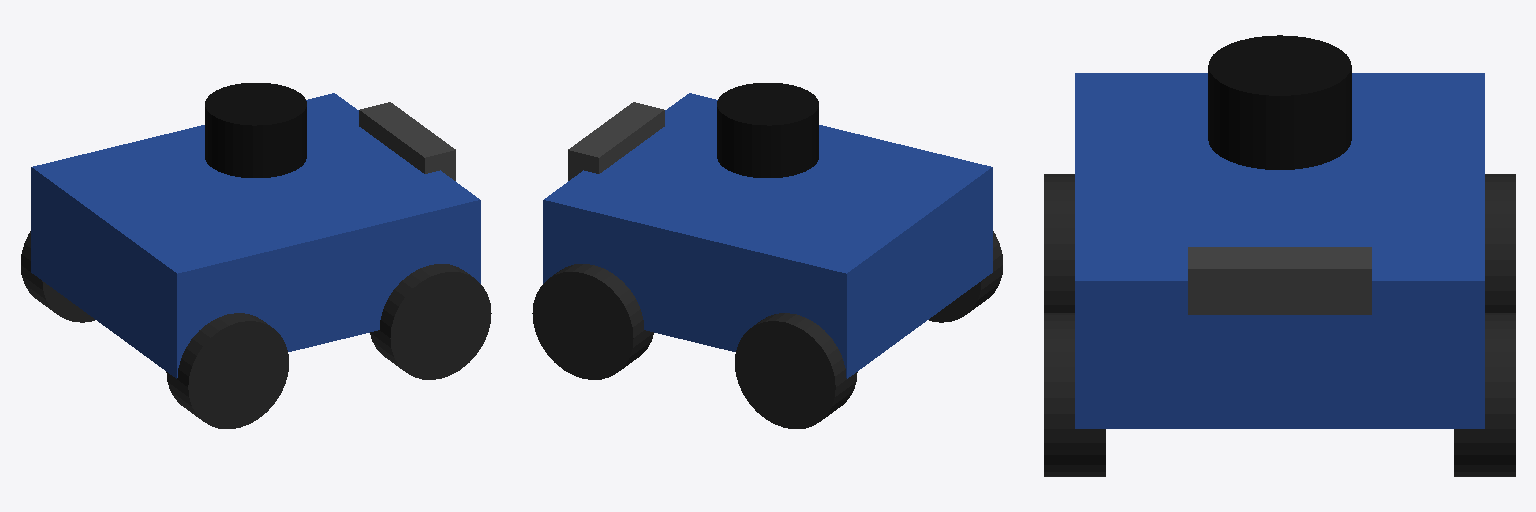
URDF robot description (mecanum_robot):
<robot name="mecanum_robot">
  <link name="base_footprint" />
  <link name="base_link">
    <inertial>
      <origin xyz="0 0 0.04" rpy="0 0 0" />
      <mass value="3.5" />
      <inertia ixx="0.01598" ixy="0" ixz="0" iyy="0.02473" iyz="0" izz="0.03700" />
    </inertial>
    <visual>
      <origin xyz="0 0 0.04" rpy="0 0 0" />
      <geometry>
        <box size="0.24 0.20 0.08" />
      </geometry>
      <material name="blue">
        <color rgba="0.2 0.35 0.65 1.0" />
      </material>
    </visual>
    <collision>
      <origin xyz="0 0 0.04" rpy="0 0 0" />
      <geometry>
        <box size="0.24 0.20 0.08" />
      </geometry>
    </collision>
  </link>
  <joint name="base_footprint_joint" type="fixed">
    <parent link="base_footprint" />
    <child link="base_link" />
    <origin xyz="0 0 0.04" rpy="0 0 0" />
  </joint>
  <link name="imu_link" />
  <joint name="imu_joint" type="fixed">
    <parent link="base_link" />
    <child link="imu_link" />
    <origin xyz="0 0 0.06" rpy="0 0 0" />
  </joint>
  <link name="base_scan">
    <visual>
      <geometry>
        <cylinder radius="0.035" length="0.04" />
      </geometry>
      <material name="dark">
        <color rgba="0.1 0.1 0.1 1.0" />
      </material>
    </visual>
    <collision>
      <geometry>
        <cylinder radius="0.035" length="0.04" />
      </geometry>
    </collision>
  </link>
  <joint name="lidar_joint" type="fixed">
    <parent link="base_link" />
    <child link="base_scan" />
    <origin xyz="0 0 0.12" rpy="0 0 0" />
  </joint>
  <link name="camera_link">
    <visual>
      <geometry>
        <box size="0.025 0.09 0.025" />
      </geometry>
      <material name="grey">
        <color rgba="0.3 0.3 0.3 1.0" />
      </material>
    </visual>
  </link>
  <joint name="camera_joint" type="fixed">
    <parent link="base_link" />
    <child link="camera_link" />
    <origin xyz=".12 0 0.08" rpy="0 0 0" />
  </joint>
  <link name="front_left_wheel">
    <visual>
      <geometry>
        <cylinder radius="0.04" length="0.03" />
      </geometry>
      <material name="black">
        <color rgba="0.2 0.2 0.2 1.0" />
      </material>
    </visual>
  </link>
  <joint name="front_left_wheel_joint" type="continuous">
    <parent link="base_link" />
    <child link="front_left_wheel" />
    <origin xyz="0.08 0.10 0.0" rpy="-1.5707963 0 0" />
    <axis xyz="0 0 1" />
  </joint>
  <link name="front_right_wheel">
    <visual>
      <geometry>
        <cylinder radius="0.04" length="0.03" />
      </geometry>
      <material name="black">
        <color rgba="0.2 0.2 0.2 1.0" />
      </material>
    </visual>
  </link>
  <joint name="front_right_wheel_joint" type="continuous">
    <parent link="base_link" />
    <child link="front_right_wheel" />
    <origin xyz="0.08 -0.10 0.0" rpy="-1.5707963 0 0" />
    <axis xyz="0 0 1" />
  </joint>
  <link name="rear_left_wheel">
    <visual>
      <geometry>
        <cylinder radius="0.04" length="0.03" />
      </geometry>
      <material name="black">
        <color rgba="0.2 0.2 0.2 1.0" />
      </material>
    </visual>
  </link>
  <joint name="rear_left_wheel_joint" type="continuous">
    <parent link="base_link" />
    <child link="rear_left_wheel" />
    <origin xyz="-0.08 0.10 0.0" rpy="-1.5707963 0 0" />
    <axis xyz="0 0 1" />
  </joint>
  <link name="rear_right_wheel">
    <visual>
      <geometry>
        <cylinder radius="0.04" length="0.03" />
      </geometry>
      <material name="black">
        <color rgba="0.2 0.2 0.2 1.0" />
      </material>
    </visual>
  </link>
  <joint name="rear_right_wheel_joint" type="continuous">
    <parent link="base_link" />
    <child link="rear_right_wheel" />
    <origin xyz="-0.08 -0.10 0.0" rpy="-1.5707963 0 0" />
    <axis xyz="0 0 1" />
  </joint>
</robot>

--- Facts derived from the render (not from the file) ---
3 views of the same robot in one strip: view 1: azimuth 30°, elevation 25°; view 2: azimuth 150°, elevation 25°; view 3: azimuth 270°, elevation 25° (orthographic).
Model mecanum_robot with 9 links and 8 joints (4 continuous, 4 fixed), rooted at base_footprint, posed every joint at zero.
Links seen in each view (by area): view 1: base_link, rear_right_wheel, front_right_wheel, base_scan, camera_link, rear_left_wheel; view 2: base_link, rear_left_wheel, front_left_wheel, base_scan, camera_link, rear_right_wheel; view 3: base_link, base_scan, camera_link, front_left_wheel, front_right_wheel, rear_left_wheel, rear_right_wheel.
Boxes of the visible links, <box> form: base_link: <box>31,93,480,378</box>; rear_right_wheel: <box>166,313,288,428</box>; front_right_wheel: <box>370,264,491,379</box>; base_scan: <box>205,83,306,177</box>; camera_link: <box>359,102,455,180</box>; rear_left_wheel: <box>21,231,94,322</box>; base_link: <box>543,93,992,378</box>; rear_left_wheel: <box>735,313,857,428</box>; front_left_wheel: <box>532,264,653,379</box>; base_scan: <box>717,83,818,177</box>; camera_link: <box>568,102,664,180</box>; rear_right_wheel: <box>929,231,1002,322</box>; base_link: <box>1075,73,1484,428</box>; base_scan: <box>1208,35,1351,169</box>; camera_link: <box>1188,247,1371,314</box>; front_left_wheel: <box>1454,313,1515,476</box>; front_right_wheel: <box>1044,313,1105,476</box>; rear_left_wheel: <box>1485,174,1515,312</box>; rear_right_wheel: <box>1044,174,1074,312</box>.
Size in the robot's own frame: 0.2525 by 0.23 by 0.18 metres.
Geometry: primitives only (box / cylinder / sphere), no mesh files.
